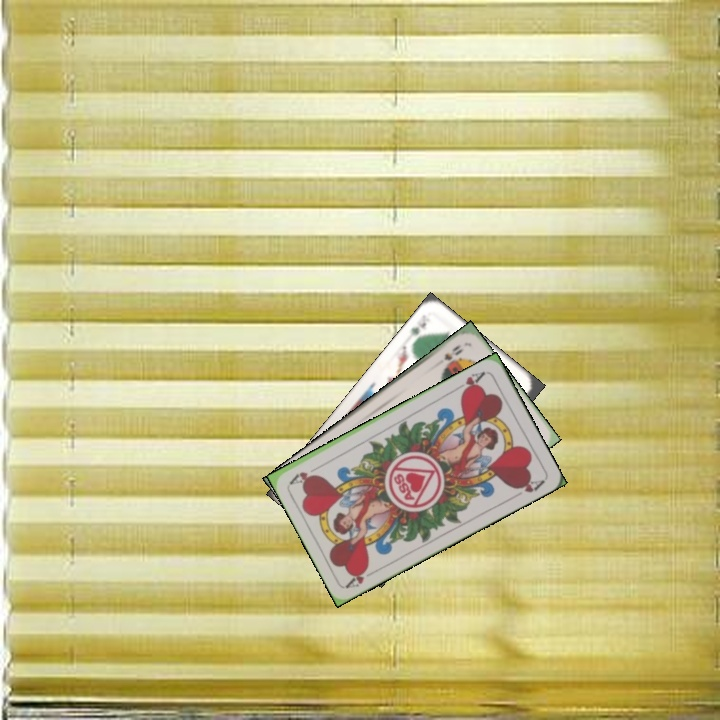GK: (406, 310, 433, 338)
HA: (451, 367, 488, 397), (343, 562, 381, 591)
SO: (440, 340, 467, 369)
